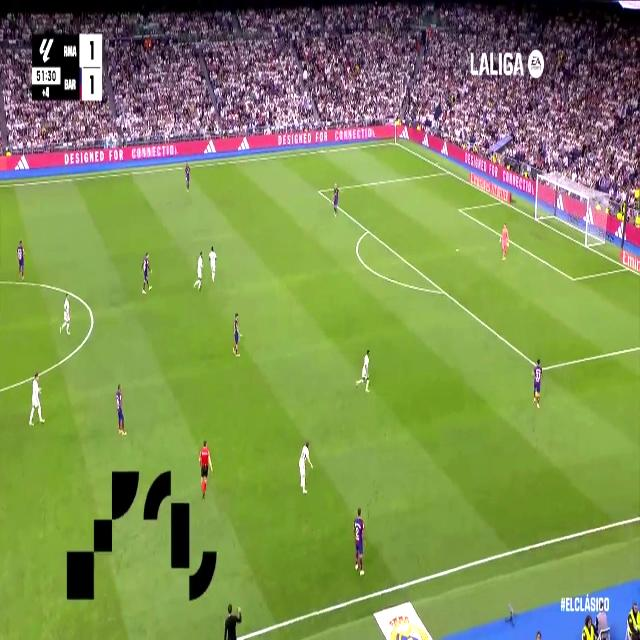bigarea_top_inner: (316, 184, 322, 197)
bigarea_top_outter: (444, 164, 452, 177)
bottom_arc_area_intersection: (438, 284, 448, 300)
corner: (391, 136, 399, 147)
smallarea_bottom_inner: (569, 270, 577, 288)
smallarea_top_inner: (457, 204, 462, 214)
top_arc_area_intersection: (364, 223, 372, 237)
